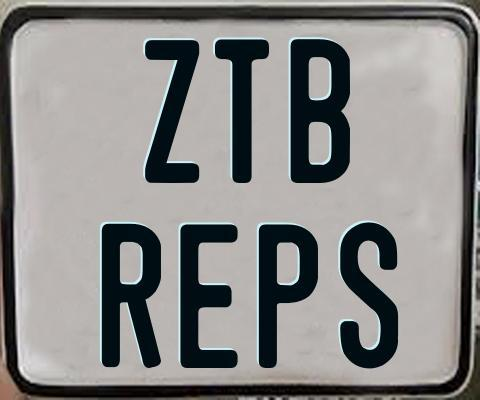B: (291, 37, 354, 186)
E: (180, 224, 243, 374)
P: (258, 221, 319, 369)
R: (102, 223, 166, 373)
S: (340, 220, 403, 370)
T: (215, 36, 273, 183)
Z: (145, 40, 203, 187)
